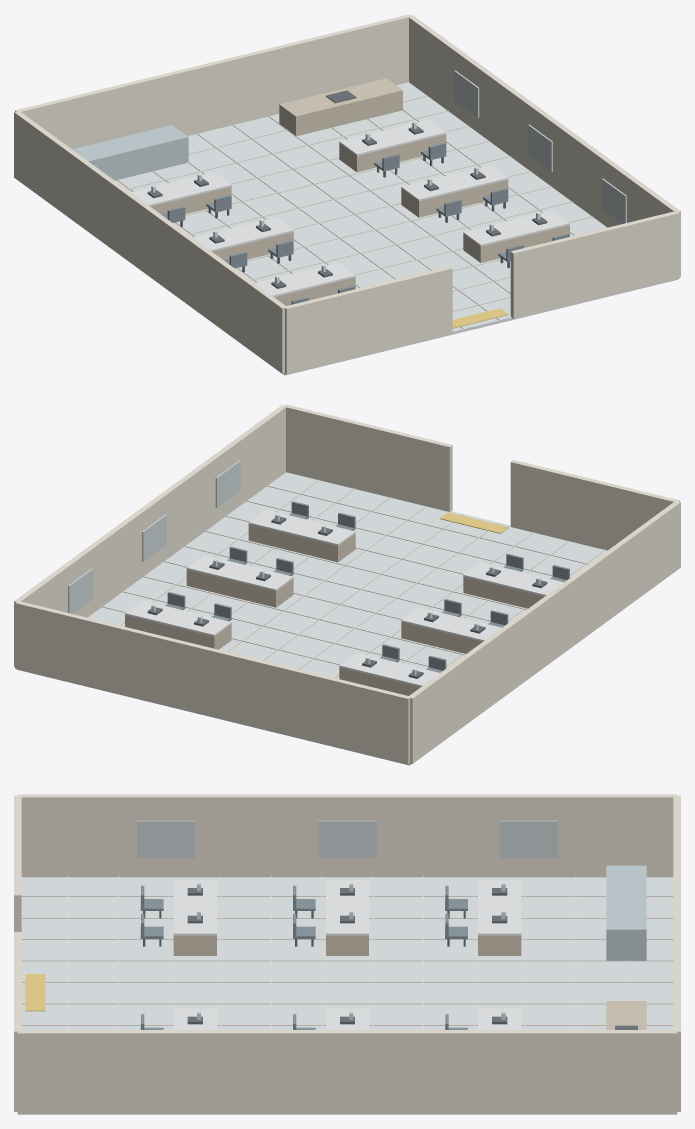
Rendered from lab.glb.
3 renders of one model, top to bottom at view 1: azimuth 30°, elevation 25°; view 2: azimuth 150°, elevation 25°; view 3: azimuth 270°, elevation 25°, orthographic. The views are drawn at different scales.
Parts seen in each view (by area): view 1: room_lab__E8DDC2, room_lab__D3E0E3, room_lab__B9A78A, room_lab__E6ECEE, room_lab__E6DCC6, room_lab__9DB4BC, room_lab__4A5A66, room_lab__B4C7CD, room_lab__2B3238; view 2: room_lab__E8DDC2, room_lab__D3E0E3, room_lab__E6ECEE, room_lab__B9A78A, room_lab__E6DCC6, room_lab__4A5A66, room_lab__B4C7CD, room_lab__2B3238, room_lab__E7B54A; view 3: room_lab__E8DDC2, room_lab__D3E0E3, room_lab__E6ECEE, room_lab__E6DCC6, room_lab__B4C7CD, room_lab__9DB4BC, room_lab__B9A78A, room_lab__4A5A66, room_lab__2B3238, room_lab__E7B54A.
Part boxes in pixels (x1=…): room_lab__E8DDC2: x1=14, y1=14, x2=680, y2=374; room_lab__D3E0E3: x1=115, y1=82, x2=678, y2=375; room_lab__B9A78A: x1=150, y1=78, x2=569, y2=305; room_lab__E6ECEE: x1=131, y1=119, x2=569, y2=296; room_lab__E6DCC6: x1=117, y1=95, x2=592, y2=328; room_lab__9DB4BC: x1=72, y1=125, x2=188, y2=180; room_lab__4A5A66: x1=161, y1=142, x2=569, y2=305; room_lab__B4C7CD: x1=454, y1=70, x2=626, y2=223; room_lab__2B3238: x1=147, y1=90, x2=547, y2=288; room_lab__E8DDC2: x1=14, y1=404, x2=680, y2=764; room_lab__D3E0E3: x1=16, y1=472, x2=606, y2=765; room_lab__E6ECEE: x1=125, y1=509, x2=563, y2=686; room_lab__B9A78A: x1=125, y1=524, x2=544, y2=695; room_lab__E6DCC6: x1=102, y1=479, x2=605, y2=677; room_lab__4A5A66: x1=165, y1=501, x2=569, y2=672; room_lab__B4C7CD: x1=68, y1=460, x2=240, y2=613; room_lab__2B3238: x1=147, y1=516, x2=547, y2=678; room_lab__E7B54A: x1=440, y1=512, x2=508, y2=533; room_lab__E8DDC2: x1=14, y1=794, x2=680, y2=1113; room_lab__D3E0E3: x1=17, y1=877, x2=677, y2=1114; room_lab__E6ECEE: x1=173, y1=880, x2=521, y2=1029; room_lab__E6DCC6: x1=21, y1=876, x2=673, y2=1029; room_lab__B4C7CD: x1=137, y1=820, x2=557, y2=857; room_lab__9DB4BC: x1=606, y1=865, x2=646, y2=960; room_lab__B9A78A: x1=173, y1=936, x2=646, y2=1029; room_lab__4A5A66: x1=140, y1=885, x2=467, y2=1029; room_lab__2B3238: x1=143, y1=888, x2=637, y2=1029; room_lab__E7B54A: x1=25, y1=974, x2=45, y2=1011.
Bounding box in the file's own units: 22.3 × 3.62 × 26.3.
